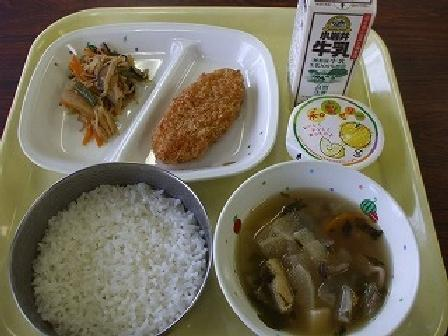Cup desserts: (268, 91, 374, 166)
Milk: (284, 0, 381, 102)
Rice: (16, 167, 204, 333)
cutlet: (145, 51, 272, 171)
vegetable based cooked food: (55, 34, 138, 141)
vegetable soup: (221, 167, 411, 328)
